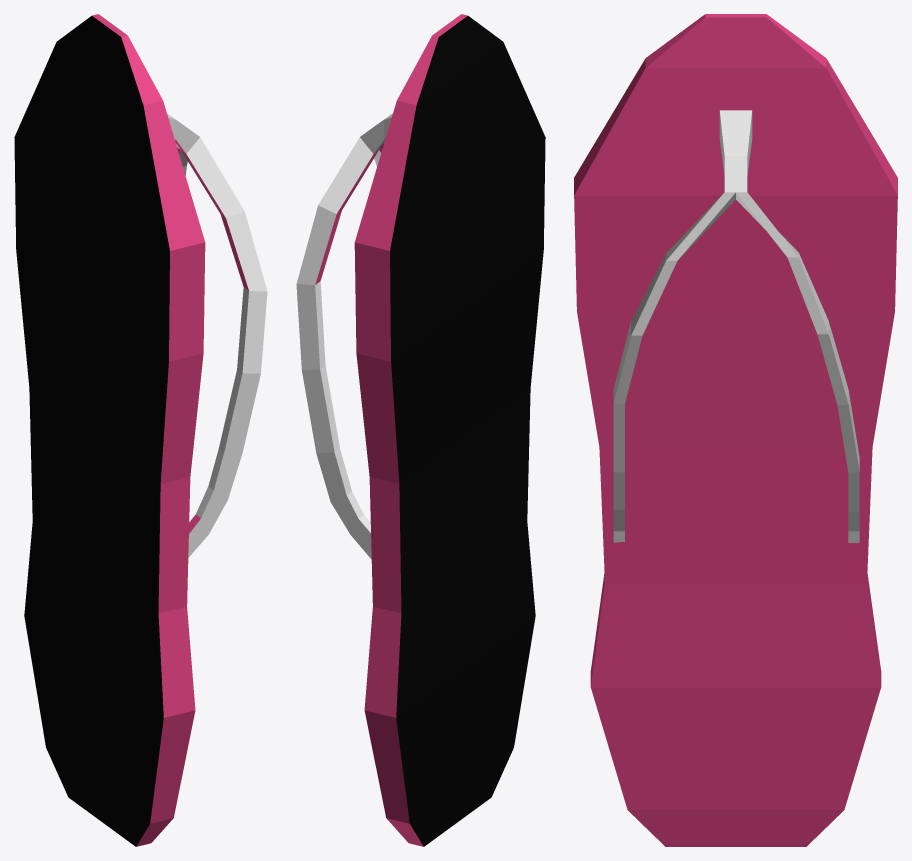
File: chappal.glb
3 renders of one model, left to right at view 1: azimuth 30°, elevation 25°; view 2: azimuth 150°, elevation 25°; view 3: azimuth 270°, elevation 25°, orthographic. The views are drawn at different scales.
Parts seen in each view (by area): view 1: Cube; view 2: Cube; view 3: Cube.
Boxes of the visible parts, left/top/right/bottom form: Cube: left=14, top=14, right=267, bottom=846; Cube: left=296, top=14, right=545, bottom=846; Cube: left=574, top=14, right=897, bottom=846.
Bounding box in the file's own units: 0.7632 × 4.57 × 1.62.
